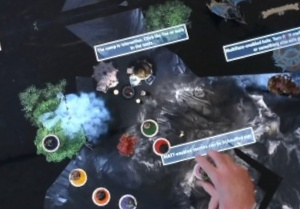green: (136, 114, 162, 139)
orange: (88, 182, 111, 207)
pink: (187, 156, 216, 183)
red: (149, 134, 173, 157)
violet: (37, 130, 61, 153), (113, 189, 139, 209)
yellow: (65, 164, 89, 189)
